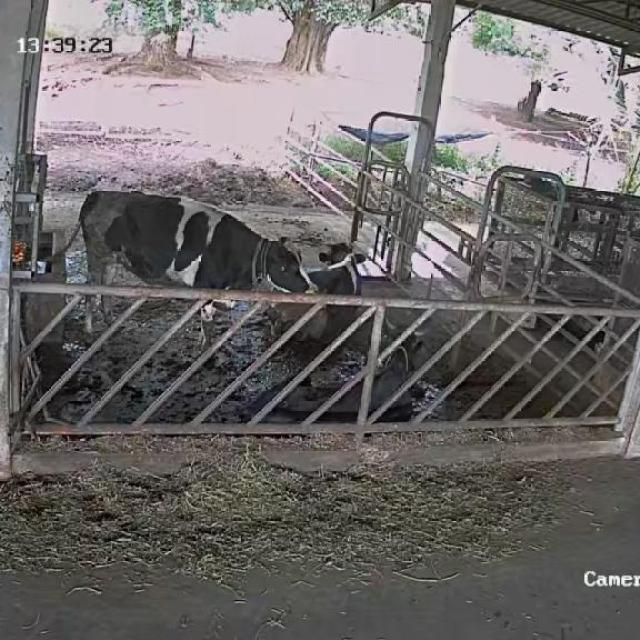lying down: (239, 322, 424, 430), (270, 238, 370, 332)
standing: (71, 183, 319, 357)
